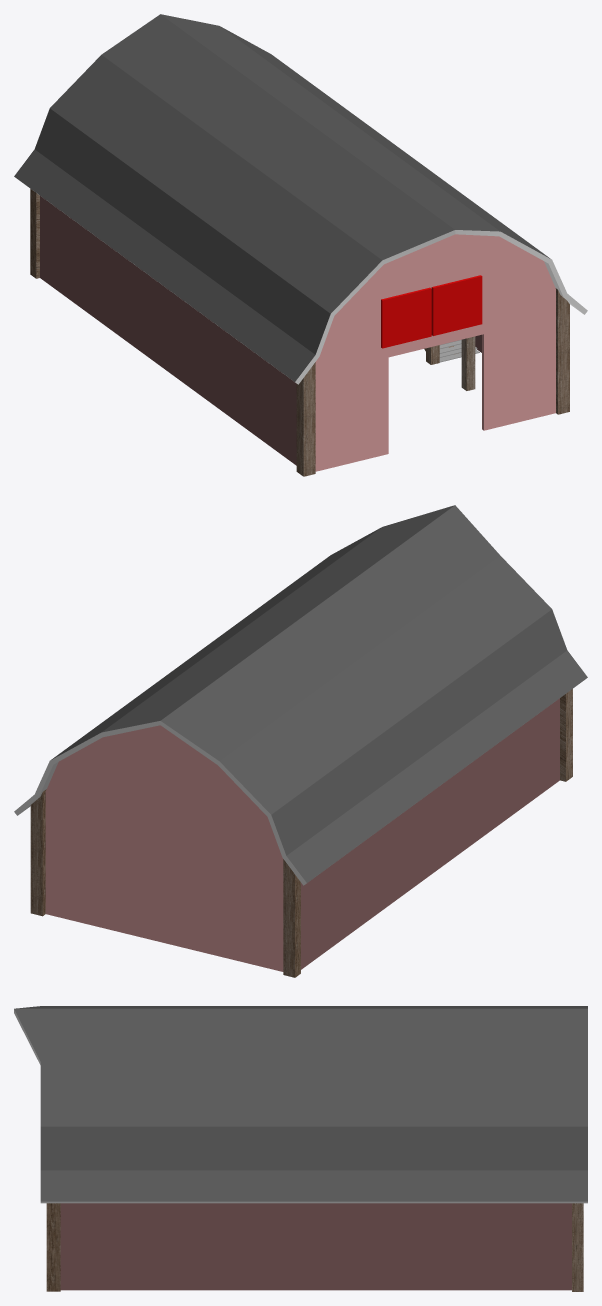
Rendered from Barn_Solid.fbx.
3 renders of one model, top to bottom at view 1: azimuth 30°, elevation 25°; view 2: azimuth 150°, elevation 25°; view 3: azimuth 270°, elevation 25°, orthographic. The views are drawn at different scales.
Visible parts, largest first — view 1: polySurface197, polySurface59, polySurface57, polySurface91, polySurface90, polySurface63, polySurface62, polySurface65, polySurface192; view 2: polySurface197, polySurface60, polySurface57, polySurface65, polySurface64, polySurface63; view 3: polySurface197, polySurface58, polySurface62, polySurface64.
Boxes of the visible parts, x1,y1,x2,y2 form: polySurface197: (14,14,587,384); polySurface59: (315,234,555,471); polySurface57: (40,196,296,465); polySurface91: (431,275,482,335); polySurface90: (381,287,431,348); polySurface63: (296,362,315,476); polySurface62: (555,288,569,414); polySurface65: (30,189,39,278); polySurface192: (461,336,475,390); polySurface197: (14,505,587,885); polySurface60: (45,725,283,971); polySurface57: (301,698,559,969); polySurface65: (283,859,300,977); polySurface64: (30,789,46,916); polySurface63: (560,689,572,781); polySurface197: (14,1006,587,1203); polySurface58: (60,1203,571,1290); polySurface62: (46,1203,60,1291); polySurface64: (572,1203,583,1291).
Bounding box in the file's own units: 2040 × 1507 × 3555.
9 materials, 2 textured.
